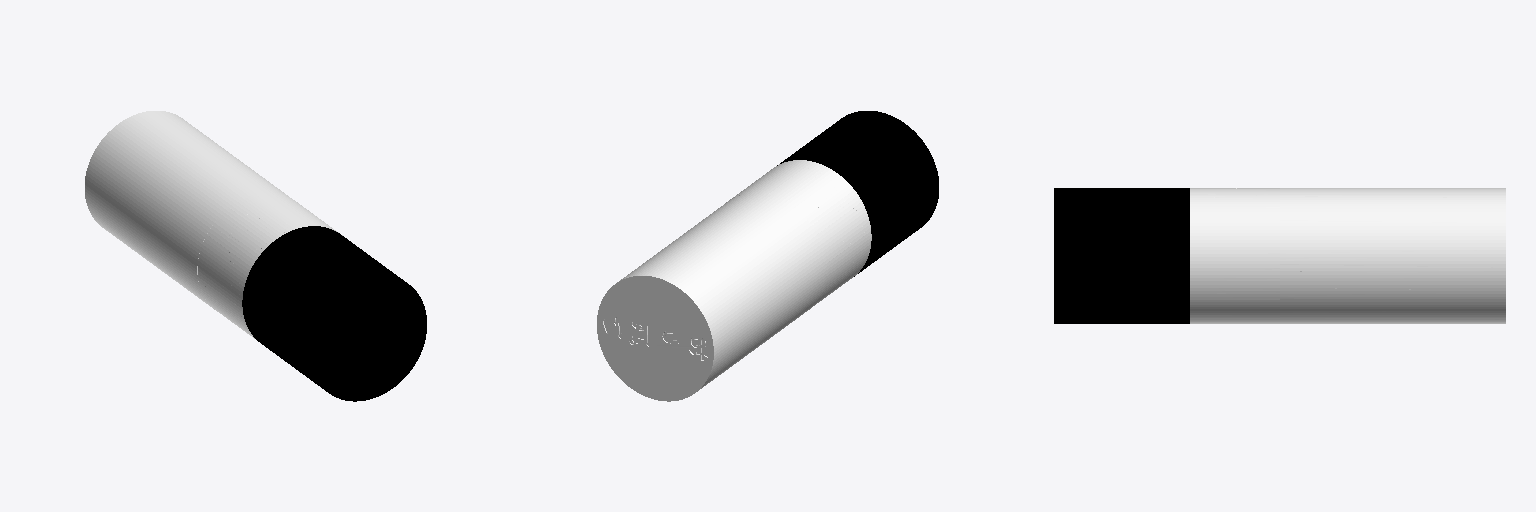
File: seal.obj
The picture shows the model from 3 angles: view 1: azimuth 30°, elevation 25°; view 2: azimuth 150°, elevation 25°; view 3: azimuth 270°, elevation 25°; orthographic projection.
Parts seen in each view (by area): view 1: Object.1; view 2: Object.1; view 3: Object.1.
Boxes of the visible parts, box(x1,y1,x2,y2) form: Object.1: box(85, 111, 426, 401); Object.1: box(597, 111, 938, 401); Object.1: box(1054, 188, 1505, 323).
Size of the model in its own units: 30.05 by 30 by 100.